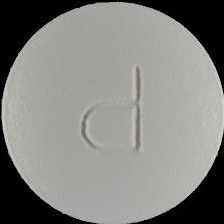61919-371: (0, 0, 224, 224)
